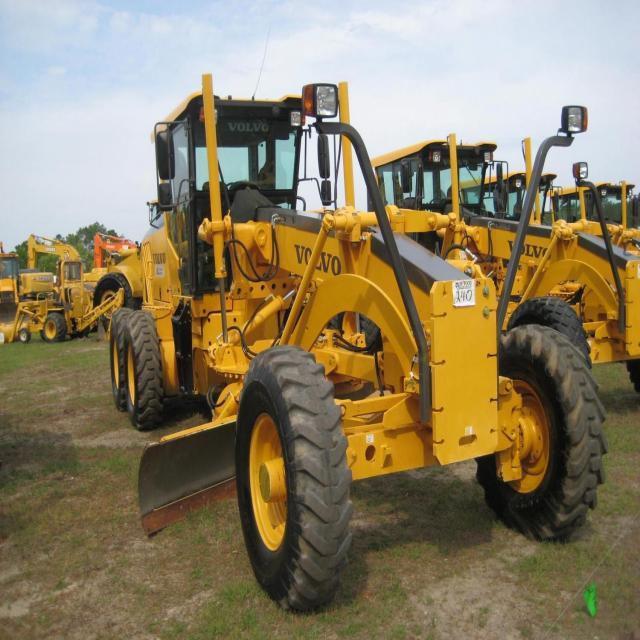Grader: (97, 70, 618, 613)
